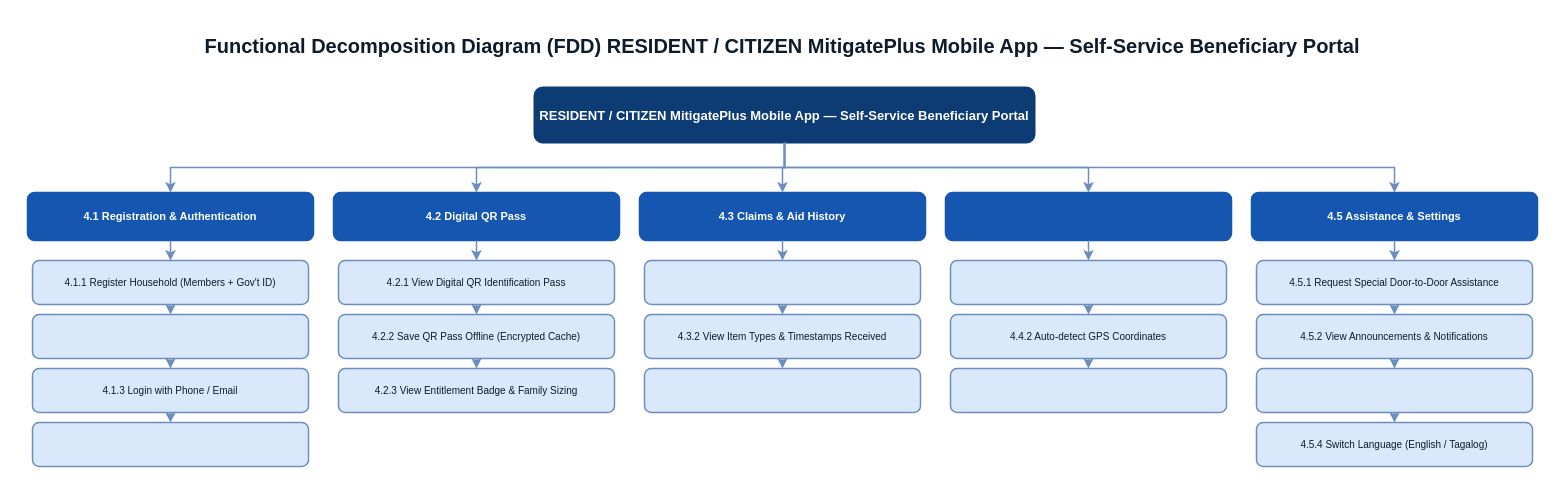
The diagram is 1564 pixels wide and 484 high, and some of its shapes have lost their labels. Here are the shapes that lost their labels. From the top down, the centre of each, then its label:
[1088,216]: 4.4 Damage Reporting
[782,282]: 4.3.1 View All Relief Claims History
[1088,282]: 4.4.1 Submit Damage Report with Photo
[170,336]: 4.1.2 2-Factor SMS OTP Verification
[782,390]: 4.3.3 Track Claim Status per Event
[1088,390]: 4.4.3 Select Damage Severity Level
[1394,390]: 4.5.3 Update Household Member Roster
[170,444]: 4.1.4 Forgot Password via OTP Reset
